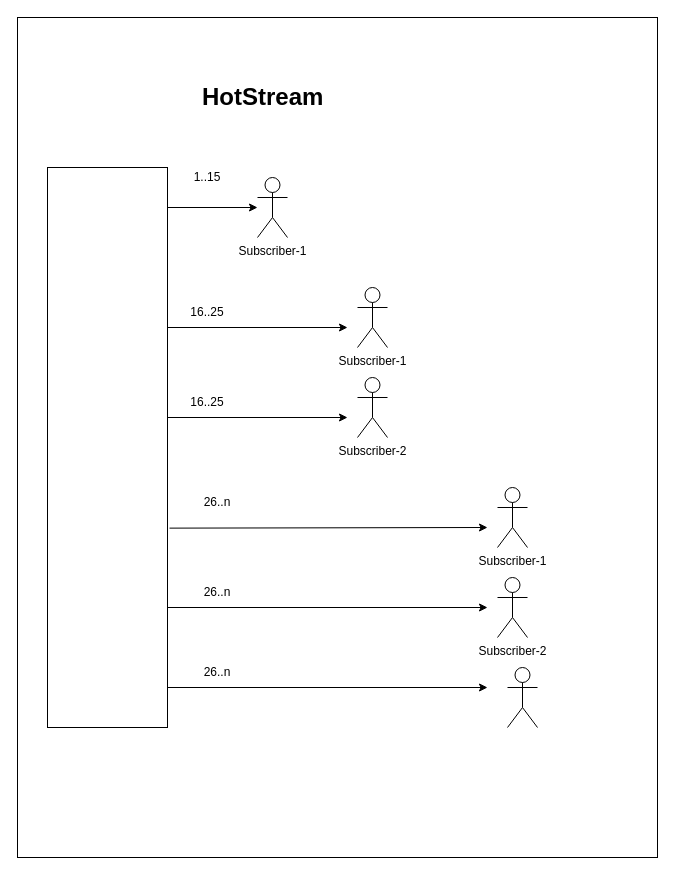
This 675x875 diagram has some shape labels left out. Here are the shapes that lost their labels. From the top down, the centre of each, then its label:
the point at 107,447: 1..n
the point at 522,697: Subscriber-3
